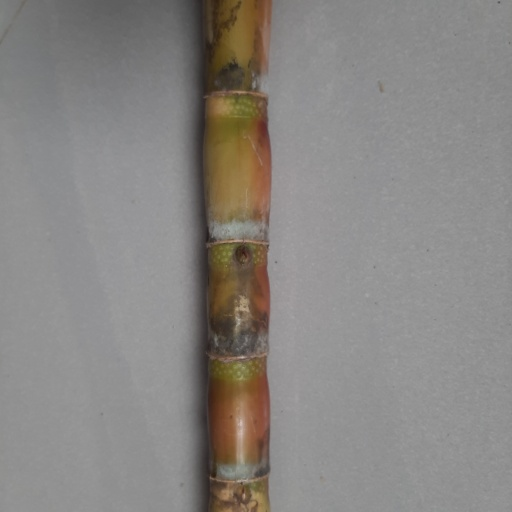Bud: (233, 243, 250, 270), (233, 483, 252, 504)
